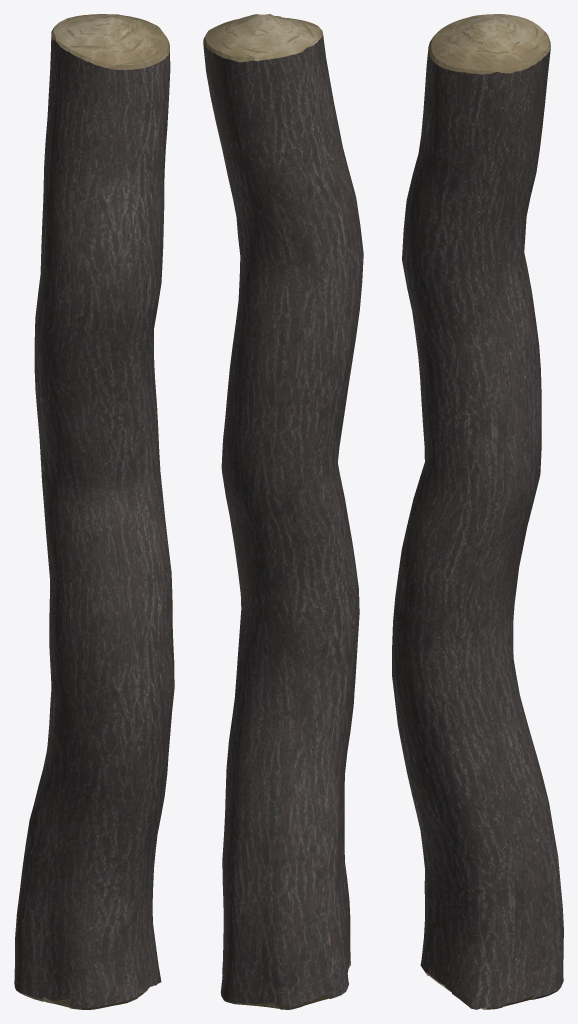
3 views of the same model, side by side, from view 1: azimuth 30°, elevation 25°; view 2: azimuth 150°, elevation 25°; view 3: azimuth 270°, elevation 25° (orthographic).
Visible parts, largest first — view 1: SM_BM_Oak_Tree_02_tree_quarters_bottom_LOD0; view 2: SM_BM_Oak_Tree_02_tree_quarters_bottom_LOD0; view 3: SM_BM_Oak_Tree_02_tree_quarters_bottom_LOD0.
Boxes of the visible parts, bbox=[...] form: SM_BM_Oak_Tree_02_tree_quarters_bottom_LOD0: bbox=[14, 14, 174, 1009]; SM_BM_Oak_Tree_02_tree_quarters_bottom_LOD0: bbox=[203, 14, 363, 1009]; SM_BM_Oak_Tree_02_tree_quarters_bottom_LOD0: bbox=[392, 14, 563, 1009].
Size of the model in its own units: 1.19 by 8.11 by 1.29.
1 material, 1 textured.
